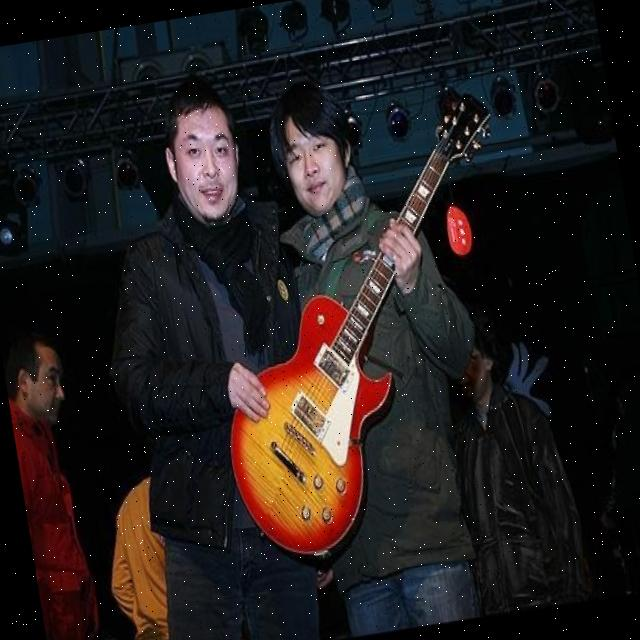guitar: (172, 89, 559, 584)
